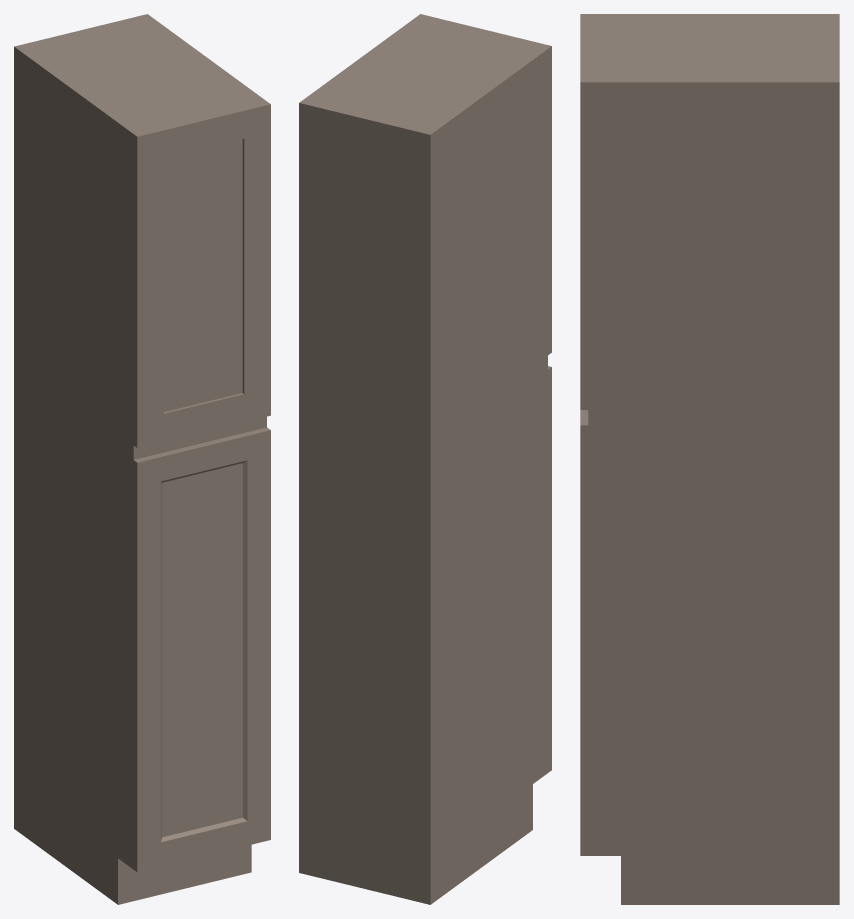
The model's file is Utility-Cabinet-24-Deep_std_001_W15in_1D.glb.
3 views of the same model, side by side, from view 1: azimuth 30°, elevation 25°; view 2: azimuth 150°, elevation 25°; view 3: azimuth 270°, elevation 25° (orthographic). The views are drawn at different scales.
Visible parts, largest first — view 1: Utility-Cabinet-24-Deep.std.001_W15in_1D; view 2: Utility-Cabinet-24-Deep.std.001_W15in_1D; view 3: Utility-Cabinet-24-Deep.std.001_W15in_1D.
Boxes of the visible parts, x1,y1,x2,y2 form: Utility-Cabinet-24-Deep.std.001_W15in_1D: [14, 14, 270, 904]; Utility-Cabinet-24-Deep.std.001_W15in_1D: [299, 14, 551, 904]; Utility-Cabinet-24-Deep.std.001_W15in_1D: [580, 14, 839, 904].
Bounding box in the file's own units: 0.381 × 2.13 × 0.6096.
